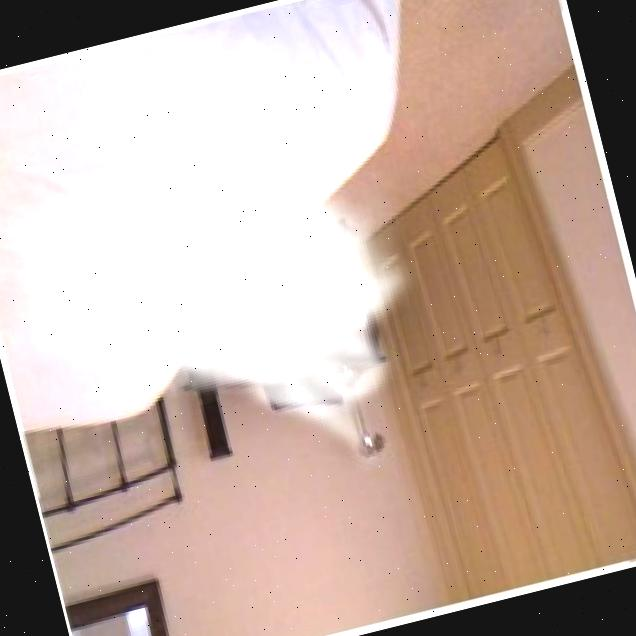smoke: (0, 92, 469, 553)
